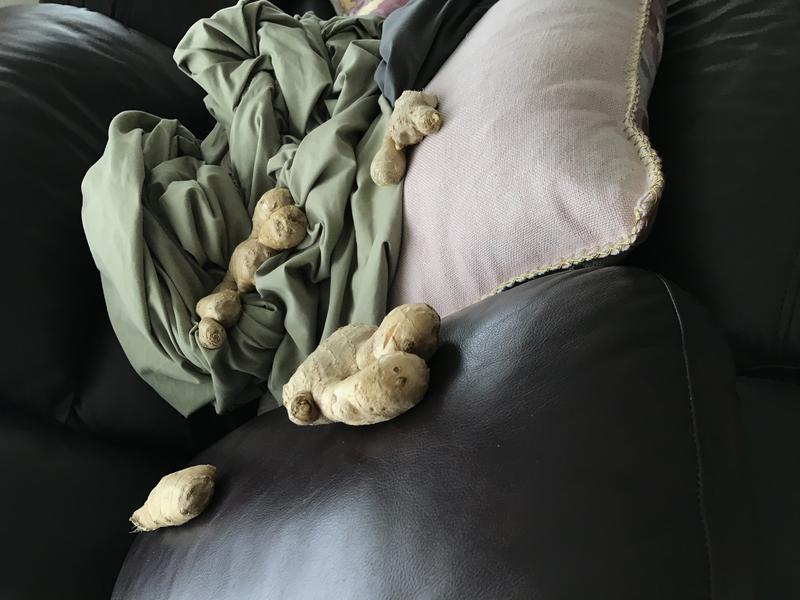ginger: (186, 175, 308, 361), (279, 303, 447, 436), (371, 85, 448, 202), (123, 458, 225, 540)
